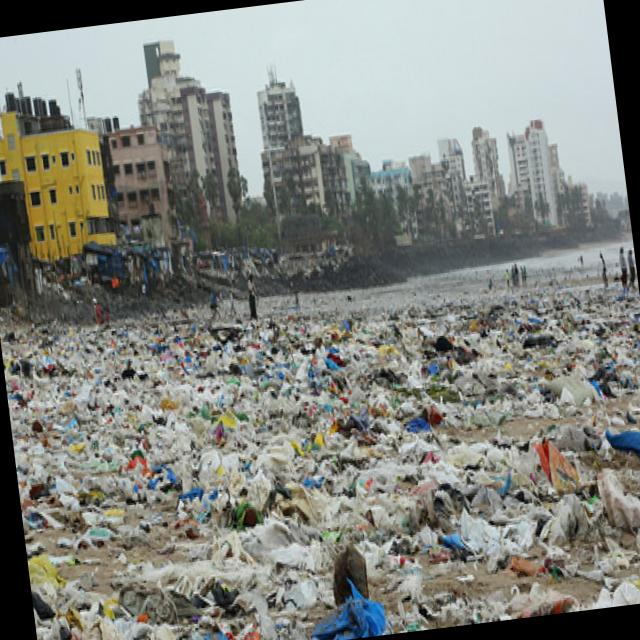garbage: (2, 249, 640, 640)
